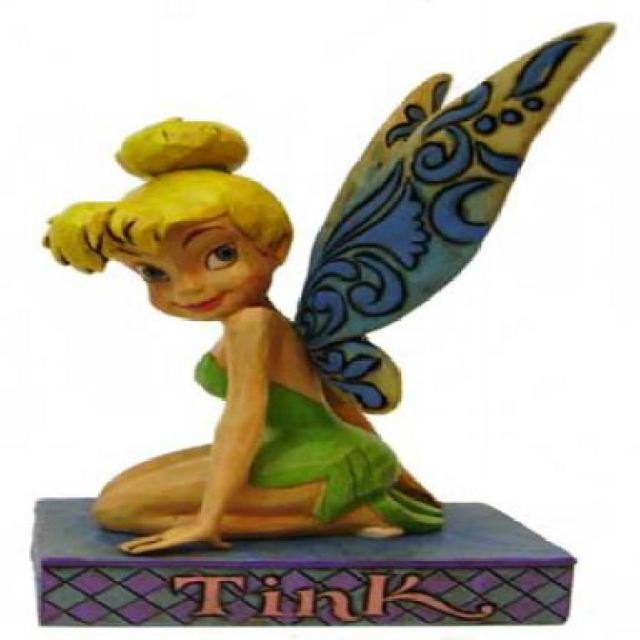obstacle: (36, 118, 449, 556)
